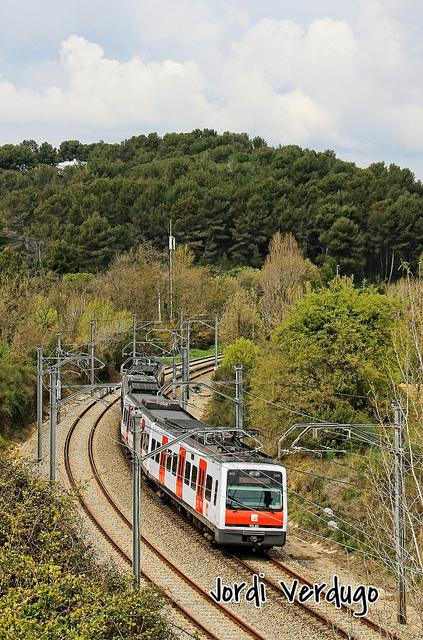Train: (114, 369, 297, 558)
